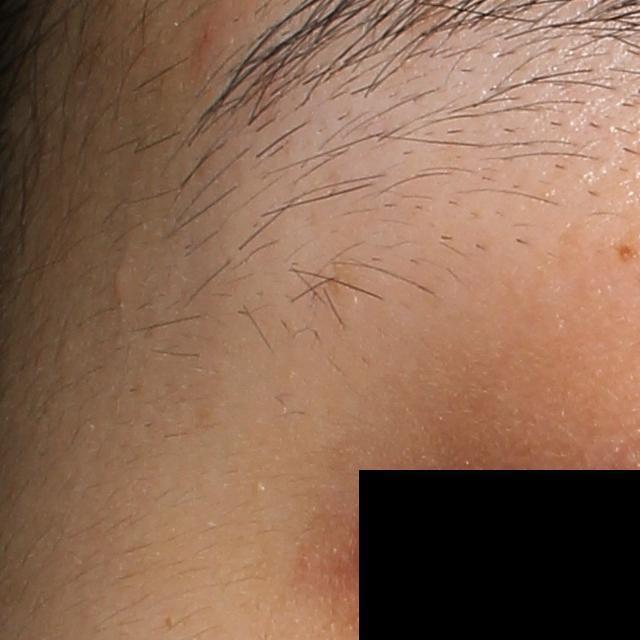nevus: (611, 240, 635, 268)
papule: (192, 11, 222, 61)
